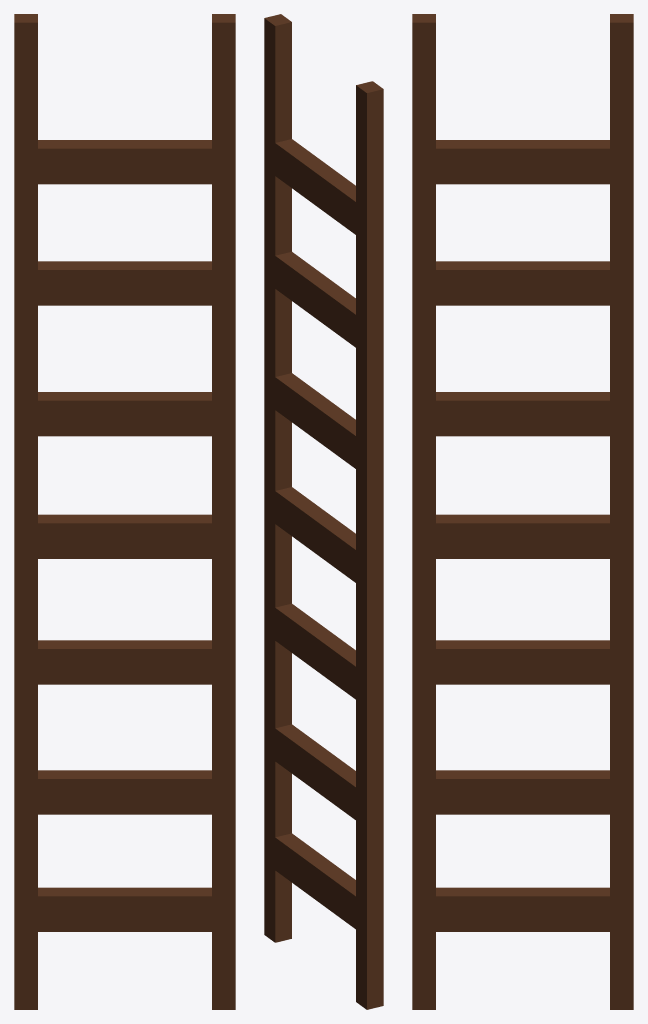
The model's file is I_Wooden_Ladder.fbx.
3 renders of one model, left to right at view 1: azimuth 90°, elevation 25°; view 2: azimuth 210°, elevation 25°; view 3: azimuth 270°, elevation 25°, orthographic. The views are drawn at different scales.
Parts seen in each view (by area): view 1: Cube; view 2: Cube; view 3: Cube.
Part boxes in pixels (x1,y1,x2,y2): Cube: (14,14,235,1009); Cube: (264,14,383,1009); Cube: (412,14,633,1009).
Size of the model in its own units: 5.7 by 298 by 60.39.
